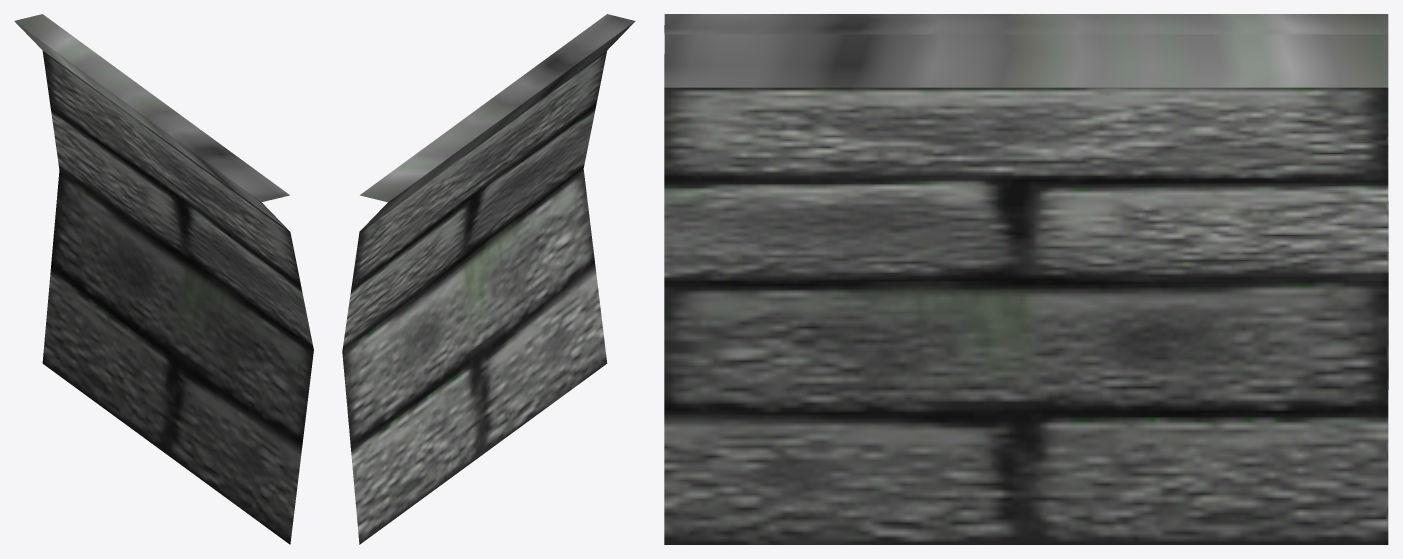
File: W_A3_xx [Schalsteine]_2471.glb
The picture shows the model from 3 angles, left to right: view 1: azimuth 30°, elevation 25°; view 2: azimuth 150°, elevation 25°; view 3: azimuth 270°, elevation 25°; orthographic projection. The views are drawn at different scales.
Visible parts, largest first — view 1: pPlaneShape1, polySurfaceShape1065; view 2: pPlaneShape1, polySurfaceShape1065; view 3: pPlaneShape1, polySurfaceShape1065.
Boxes of the visible parts, x1,y1,x2,y2 form: pPlaneShape1: (42, 51, 313, 544); polySurfaceShape1065: (14, 14, 289, 230); pPlaneShape1: (342, 51, 607, 544); polySurfaceShape1065: (360, 14, 635, 230); pPlaneShape1: (664, 87, 1388, 544); polySurfaceShape1065: (664, 14, 1388, 87).
Bounding box in the file's own units: 0.0607 × 0.3891 × 0.5003.
2 materials, 2 textured.
